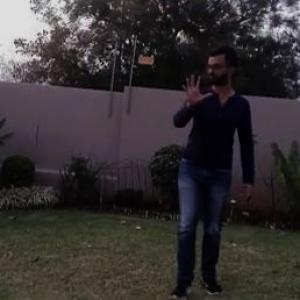follow_hand: (179, 70, 213, 108)
